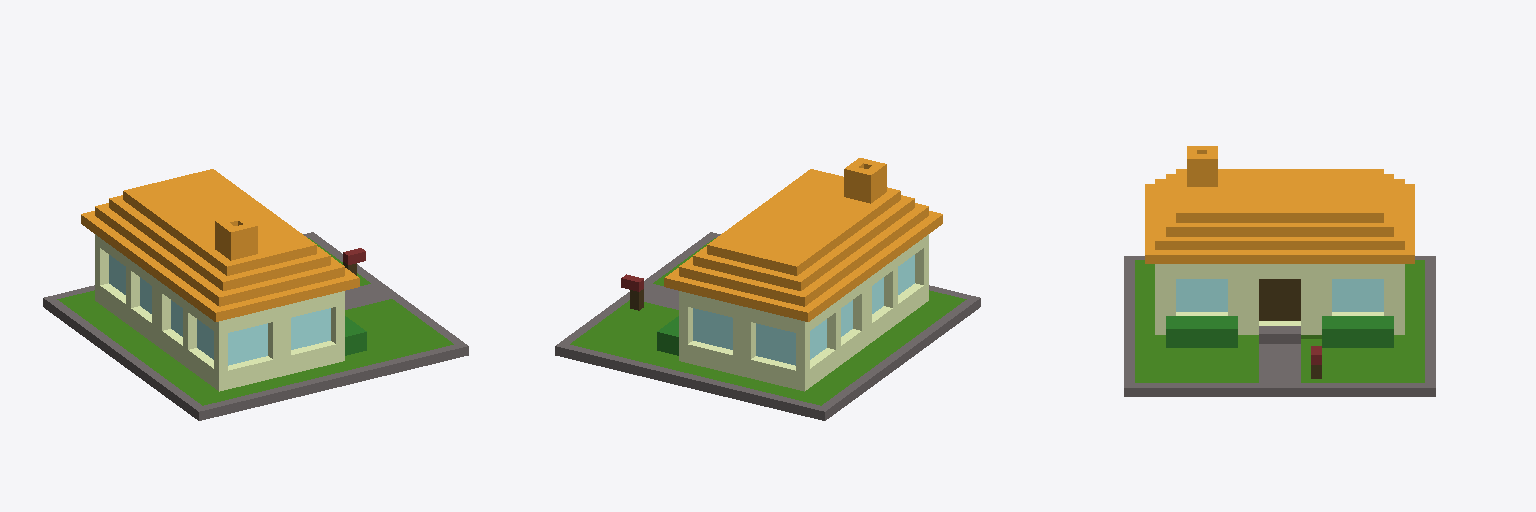
3 views of the same model, side by side, from view 1: azimuth 30°, elevation 25°; view 2: azimuth 150°, elevation 25°; view 3: azimuth 270°, elevation 25° (orthographic).
Size of the model in its own units: 30 by 16 by 30.
Materials: 1 (1 with a texture image).